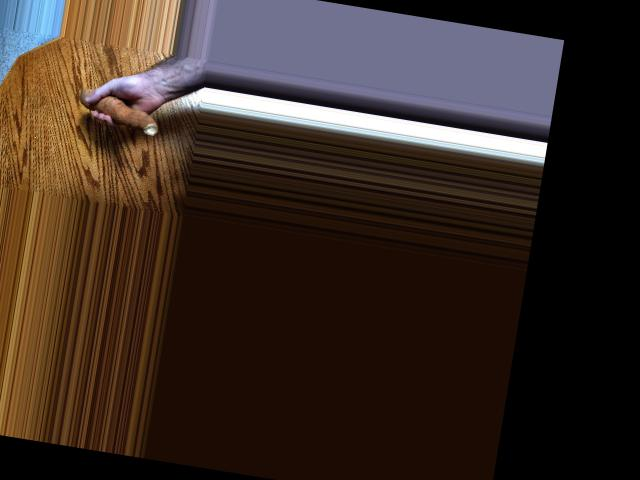sweet_potato: (72, 88, 167, 136)
